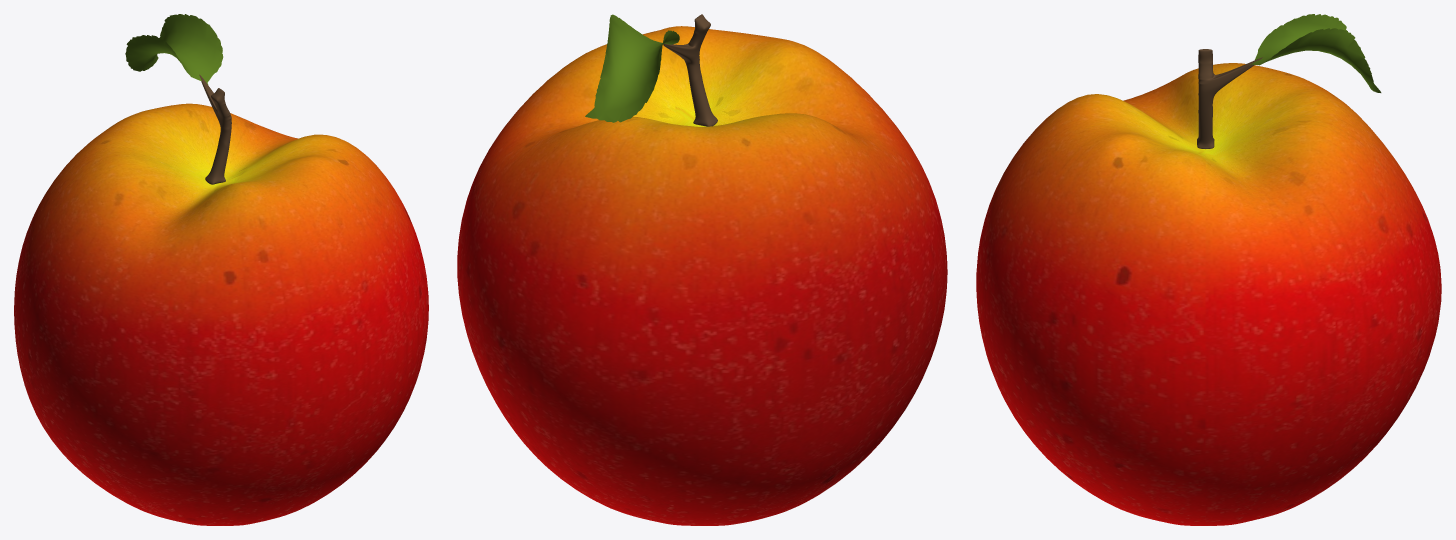
3 views of the same model, side by side, from view 1: azimuth 30°, elevation 25°; view 2: azimuth 150°, elevation 25°; view 3: azimuth 270°, elevation 25° (orthographic). The views are drawn at different scales.
Parts seen in each view (by area): view 1: Apple, Leaf, Wood; view 2: Apple, Leaf, Wood; view 3: Apple, Leaf, Wood.
Boxes of the visible parts, bbox=[...] form: Apple: bbox=[14, 103, 428, 525]; Leaf: bbox=[125, 14, 223, 84]; Wood: bbox=[199, 74, 231, 184]; Apple: bbox=[457, 26, 947, 525]; Leaf: bbox=[585, 14, 679, 122]; Wood: bbox=[663, 14, 717, 126]; Apple: bbox=[976, 63, 1441, 525]; Leaf: bbox=[1249, 14, 1381, 92]; Wood: bbox=[1197, 49, 1262, 148].
Size of the model in its own units: 223 by 264 by 227.
Materials: 3 (1 with a texture image).
